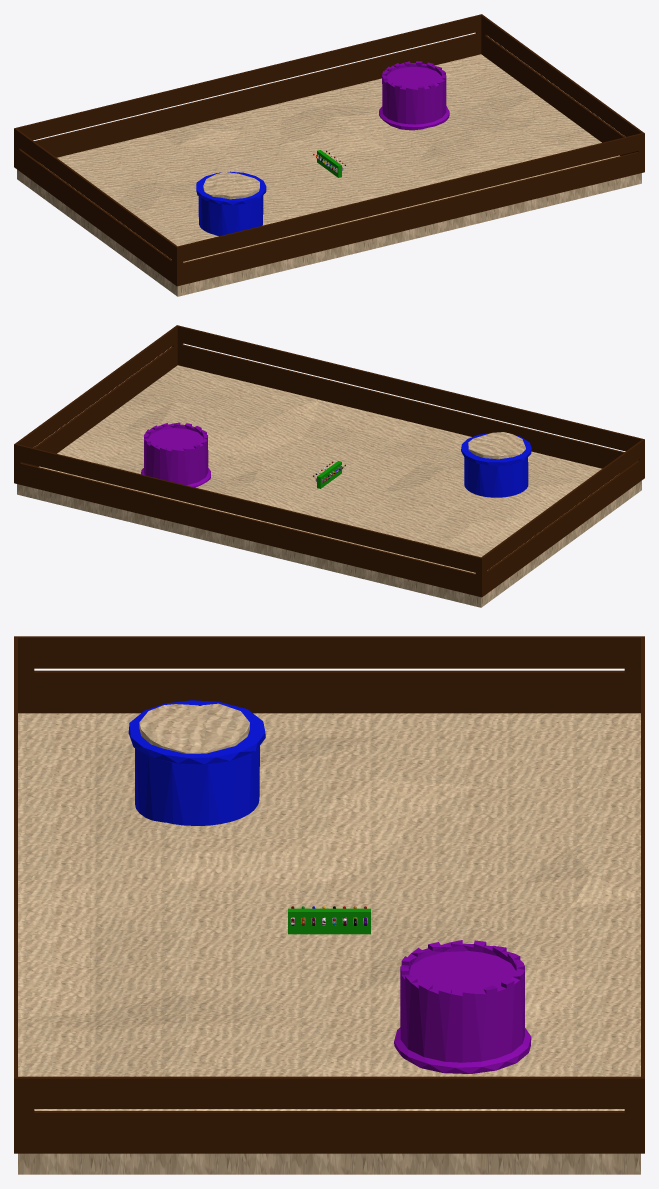
File: SandboxMap.glb
3 views of the same model, one above another, from view 1: azimuth 30°, elevation 25°; view 2: azimuth 150°, elevation 25°; view 3: azimuth 270°, elevation 25° (orthographic). The views are drawn at different scales.
Visible parts, largest first — view 1: Sand, BorderWall, BorderWall.001, BorderWall.003, BorderWall.002, Bucket, Bucket.001; view 2: Sand, BorderWall.001, BorderWall, BorderWall.003, BorderWall.002, Bucket.001, Bucket; view 3: Sand, BorderWall.002, BorderWall.003, Bucket, Bucket.001, BorderWall, BorderWall.001, Levers Panel.
Part boxes in pixels (box(x1,y1,x2,y2)): Sand: box(17, 54, 641, 296); BorderWall: box(176, 132, 644, 286); BorderWall.001: box(14, 14, 482, 167); BorderWall.003: box(15, 128, 177, 285); BorderWall.002: box(481, 15, 643, 155); Bucket: box(379, 61, 449, 130); Bucket.001: box(196, 171, 266, 236); Sand: box(17, 365, 641, 607); BorderWall.001: box(14, 443, 482, 597); BorderWall: box(176, 325, 644, 478); BorderWall.003: box(481, 439, 643, 596); BorderWall.002: box(15, 326, 177, 466); Bucket.001: box(461, 432, 531, 497); Bucket: box(141, 422, 210, 487); Sand: box(18, 713, 640, 1174); BorderWall.002: box(18, 1076, 640, 1153); BorderWall.003: box(18, 636, 640, 713); Bucket: box(394, 940, 531, 1073); Bucket.001: box(128, 700, 265, 825); BorderWall: box(14, 636, 17, 1153); BorderWall.001: box(641, 636, 644, 1153); Levers Panel: box(288, 908, 370, 934).
Size of the model in its own units: 76.81 by 8.69 by 46.33.
22 materials, 1 textured.
